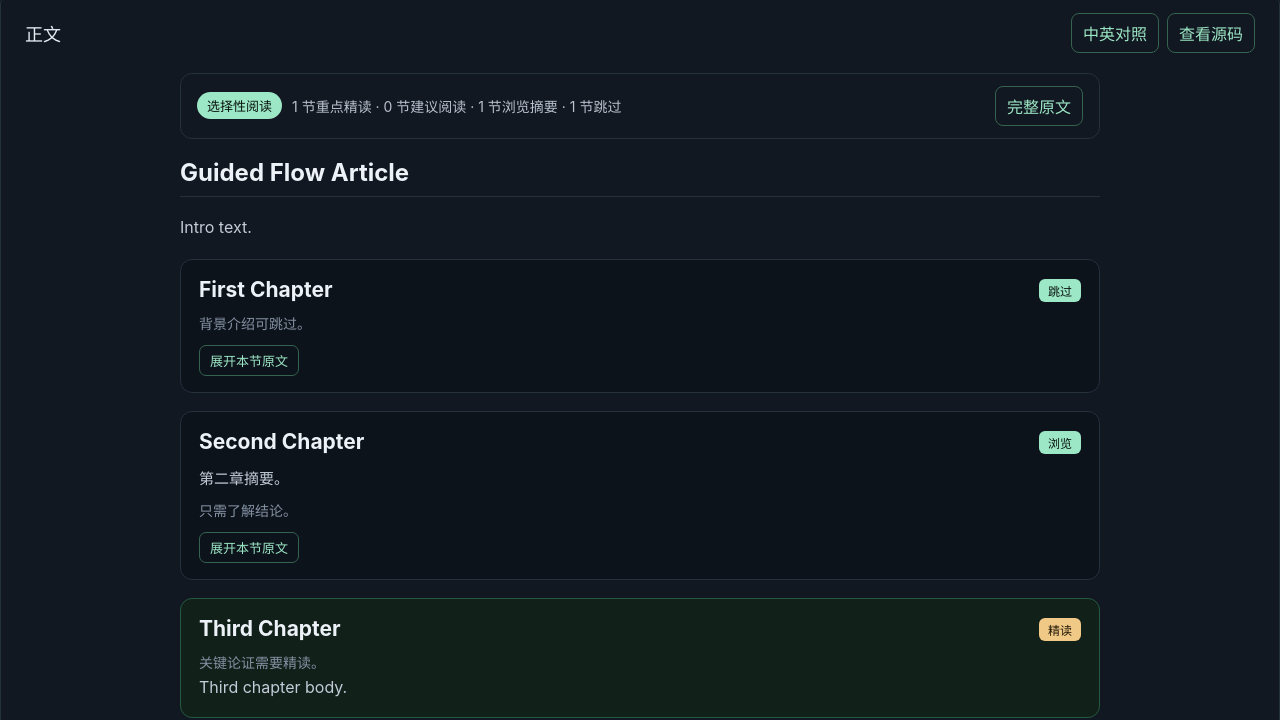
Scenario: 内容详情引导流与译文共存 › 翻译完成后保留原文引导流，不自动切换对照视图
(page scrolled)
Expected: the element with class "guided-context" shows "Intro text.", [180, 217, 252, 237]
Expected: the number of elements with class "guided-section" is 3, [180, 259, 1100, 393]; [180, 411, 1100, 580]; [180, 598, 1100, 718]
// skip 章节展开后展示原文。
Click the button with class "guided-expand" below "背景介绍可跳过。" at (249, 360), box [199, 345, 299, 376]
(page scrolled)
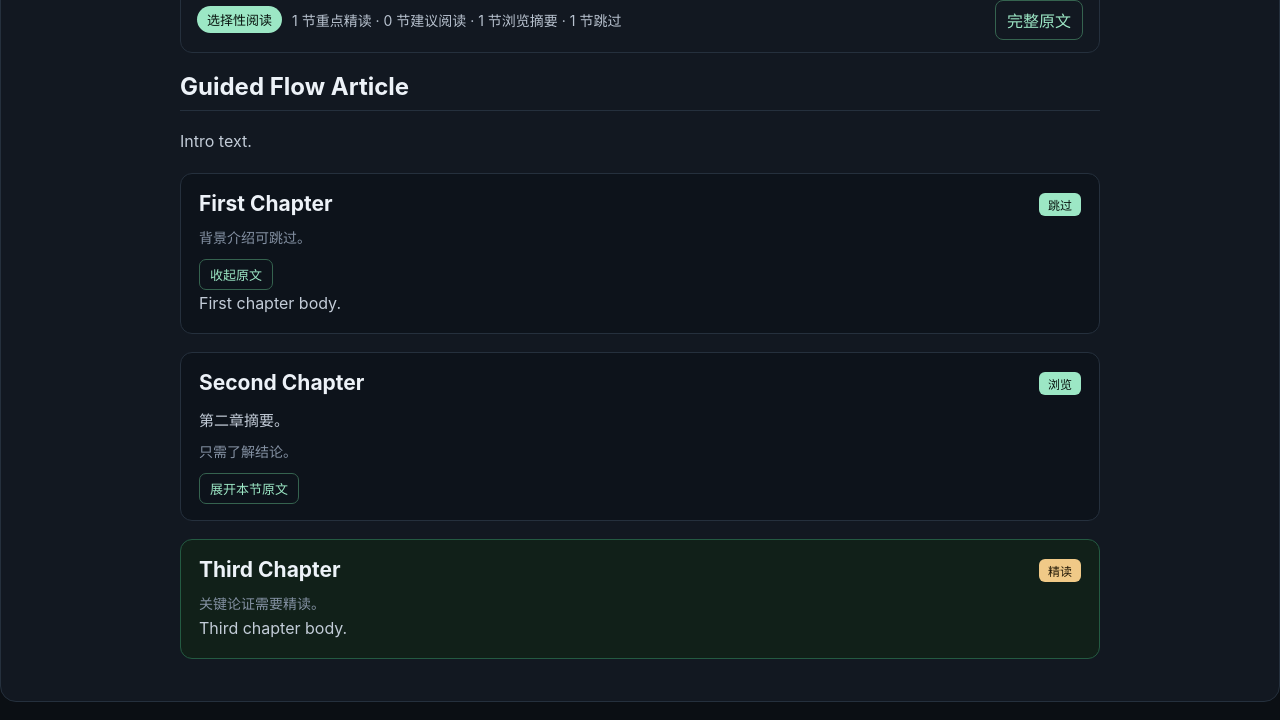
Expected: the element with class "guided-section" shows "精读", [1048, 564, 1072, 579]
Result: the element with class "guided-section" shows "First chapter body." at [199, 293, 341, 313]
